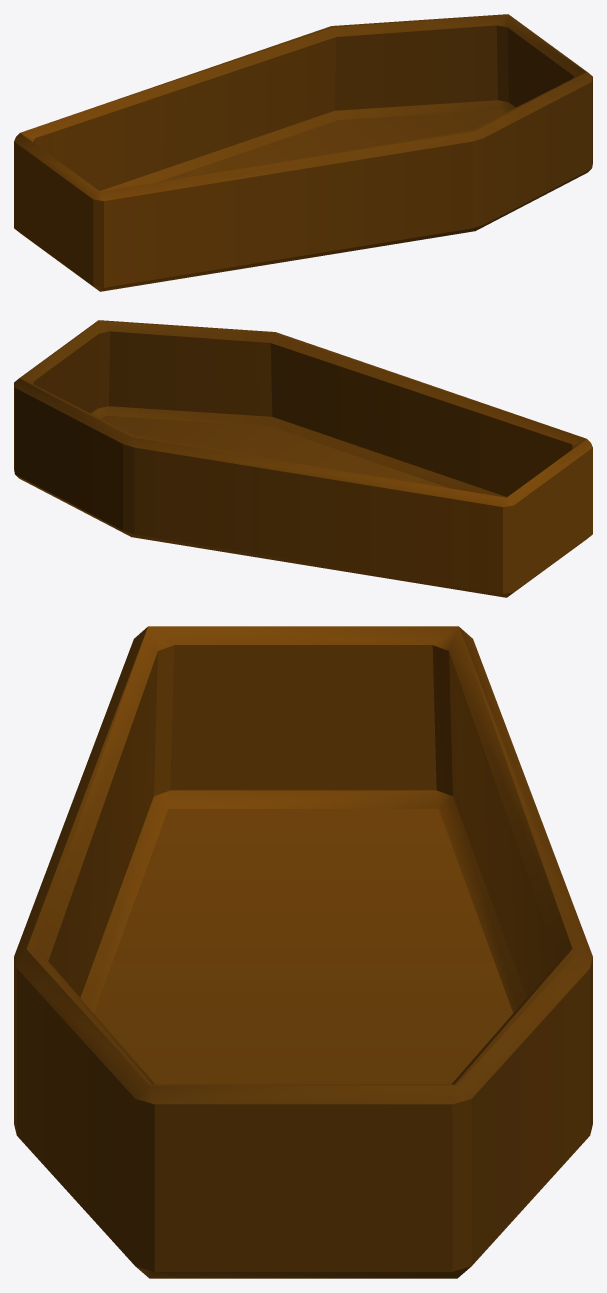
File: Cofin_2_3.obj
3 views of the same model, one above another, from view 1: azimuth 30°, elevation 25°; view 2: azimuth 150°, elevation 25°; view 3: azimuth 270°, elevation 25° (orthographic). The views are drawn at different scales.
Visible parts, largest first — view 1: Cofin_2_3; view 2: Cofin_2_3; view 3: Cofin_2_3.
Boxes of the visible parts, x1=… form: Cofin_2_3: x1=14, y1=14, x2=592, y2=291; Cofin_2_3: x1=14, y1=320, x2=592, y2=597; Cofin_2_3: x1=14, y1=626, x2=592, y2=1278.
Size of the model in its own units: 1.27 by 0.2435 by 0.6612.
